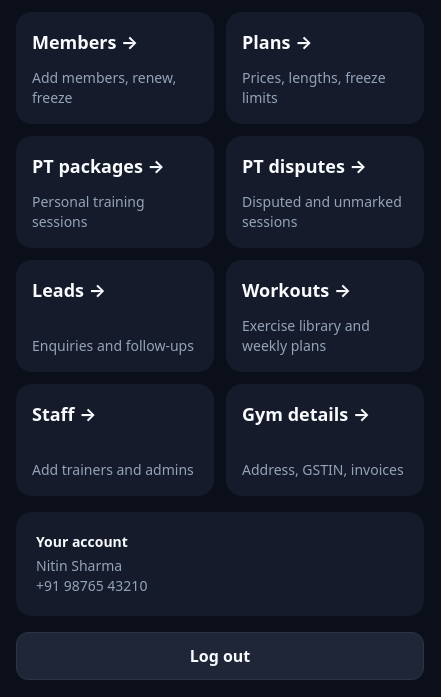
signed in › restores the login on reload, and logs out
(page scrolled)
Click the button "Log out". click: point(220, 656)
box: [16,632,424,680]
(page scrolled)
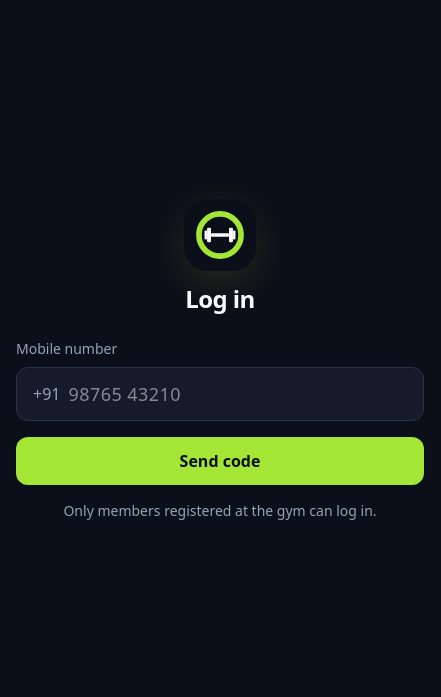
Check: the field labelled "Mobile number" is shown, box [68,368,423,420]
